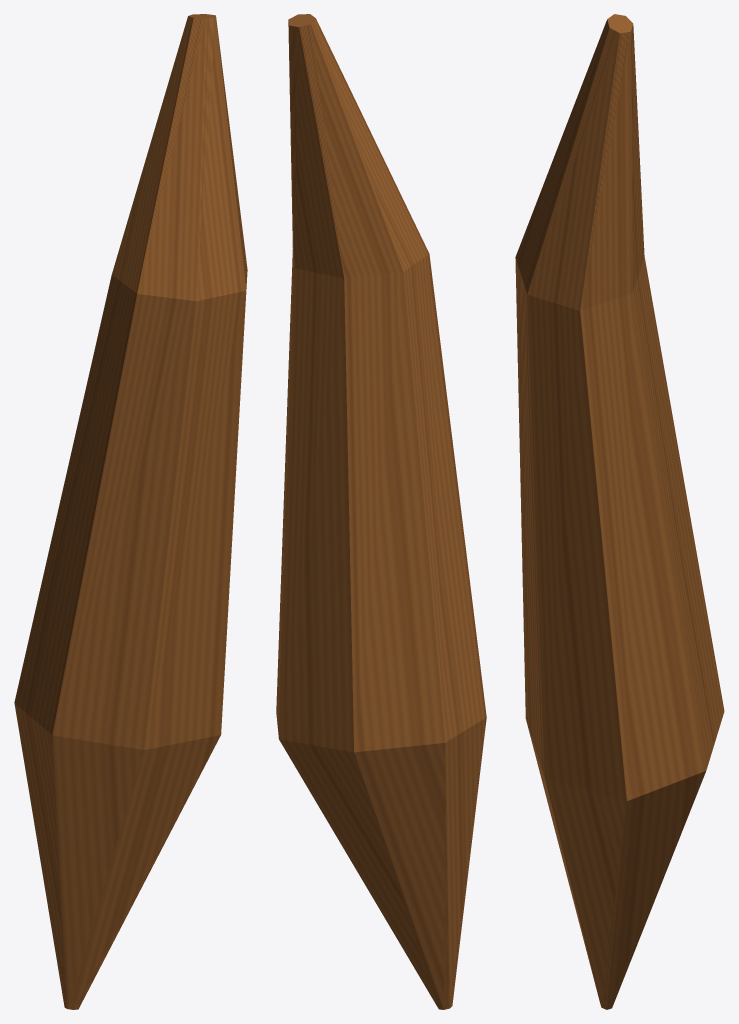
The model's file is SM_HarvestOak_Splinter02.fbx.
The picture shows the model from 3 angles, left to right: view 1: azimuth 30°, elevation 25°; view 2: azimuth 150°, elevation 25°; view 3: azimuth 270°, elevation 25°; orthographic projection. The views are drawn at different scales.
Visible parts, largest first — view 1: SM_HarvestOak_Splinter02; view 2: SM_HarvestOak_Splinter02; view 3: SM_HarvestOak_Splinter02.
Part boxes in pixels (x1,y1,x2,y2): SM_HarvestOak_Splinter02: [14, 14, 247, 1009]; SM_HarvestOak_Splinter02: [276, 14, 486, 1009]; SM_HarvestOak_Splinter02: [515, 14, 724, 1009].
Bounding box in the file's own units: 0.0298 × 0.0251 × 0.1407.
1 material, 1 textured.
